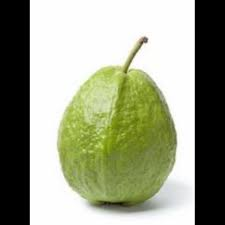guava: (54, 37, 175, 208)
